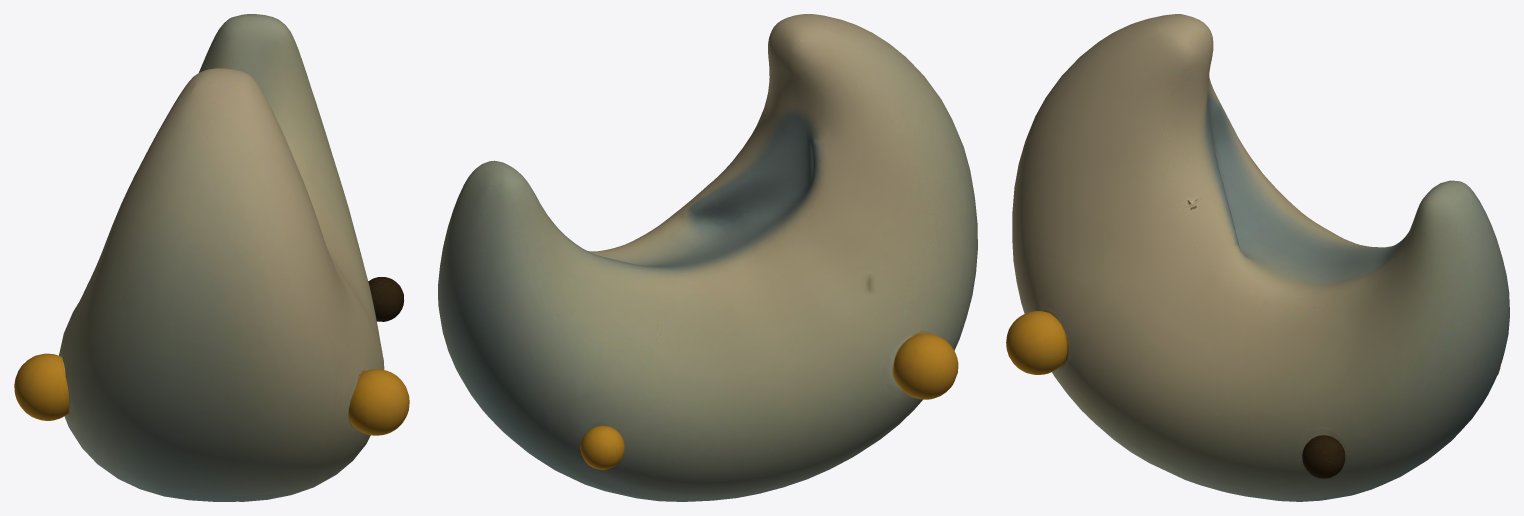
File: acc_hat_night_moon_01.glb
3 renders of one model, left to right at view 1: azimuth 30°, elevation 25°; view 2: azimuth 150°, elevation 25°; view 3: azimuth 270°, elevation 25°, orthographic. The views are drawn at different scales.
Parts seen in each view (by area): view 1: acc_hat_night_moon_01; view 2: acc_hat_night_moon_01; view 3: acc_hat_night_moon_01.
Boxes of the visible parts, x1=… form: acc_hat_night_moon_01: x1=14, y1=14, x2=409, y2=501; acc_hat_night_moon_01: x1=438, y1=14, x2=977, y2=501; acc_hat_night_moon_01: x1=1006, y1=14, x2=1509, y2=501.
Bounding box in the file's own units: 0.2835 × 0.28 × 0.2977.
1 material, 1 textured.
